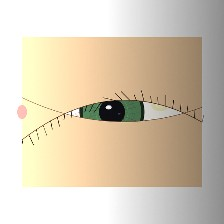pinguecula_lesion: (142, 91, 178, 120)
